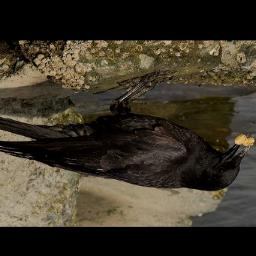Crow: (0, 71, 254, 193)
